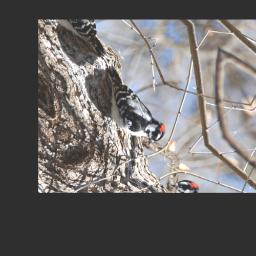Woodpecker: (86, 58, 173, 156)
